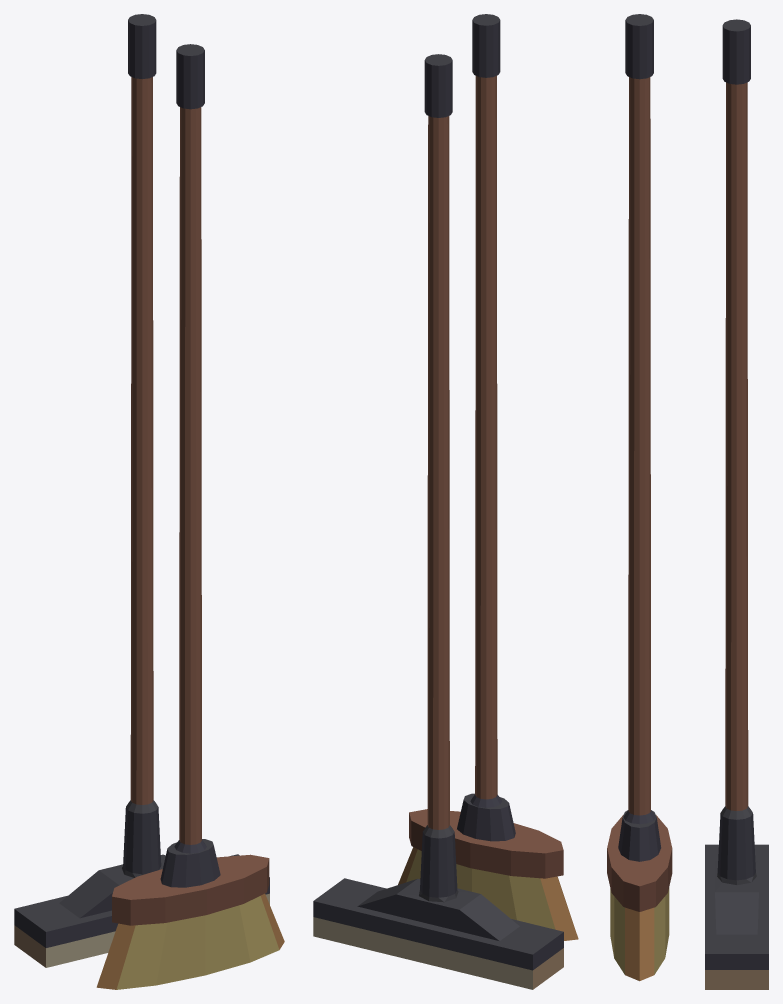
Rendered from SapuPel.fbx.
The picture shows the model from 3 angles, left to right: view 1: azimuth 30°, elevation 25°; view 2: azimuth 150°, elevation 25°; view 3: azimuth 270°, elevation 25°; orthographic projection. The views are drawn at different scales.
Visible parts, largest first — view 1: Cylinder.001, Cylinder; view 2: Cylinder, Cylinder.001; view 3: Cylinder, Cylinder.001.
Part boxes in pixels (x1=…): Cylinder.001: x1=96, y1=44, x2=284, y2=989; Cylinder: x1=14, y1=14, x2=269, y2=967; Cylinder: x1=313, y1=54, x2=563, y2=989; Cylinder.001: x1=398, y1=14, x2=578, y2=940; Cylinder: x1=705, y1=19, x2=768, y2=989; Cylinder.001: x1=607, y1=14, x2=672, y2=981.
Size of the model in its own units: 78.59 by 307 by 49.12.
